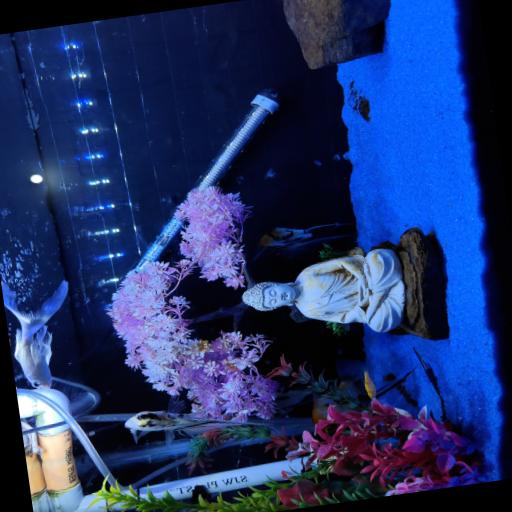Fish: (1, 281, 68, 388), (125, 410, 245, 443), (255, 223, 356, 258), (337, 359, 366, 396), (364, 372, 376, 399)
